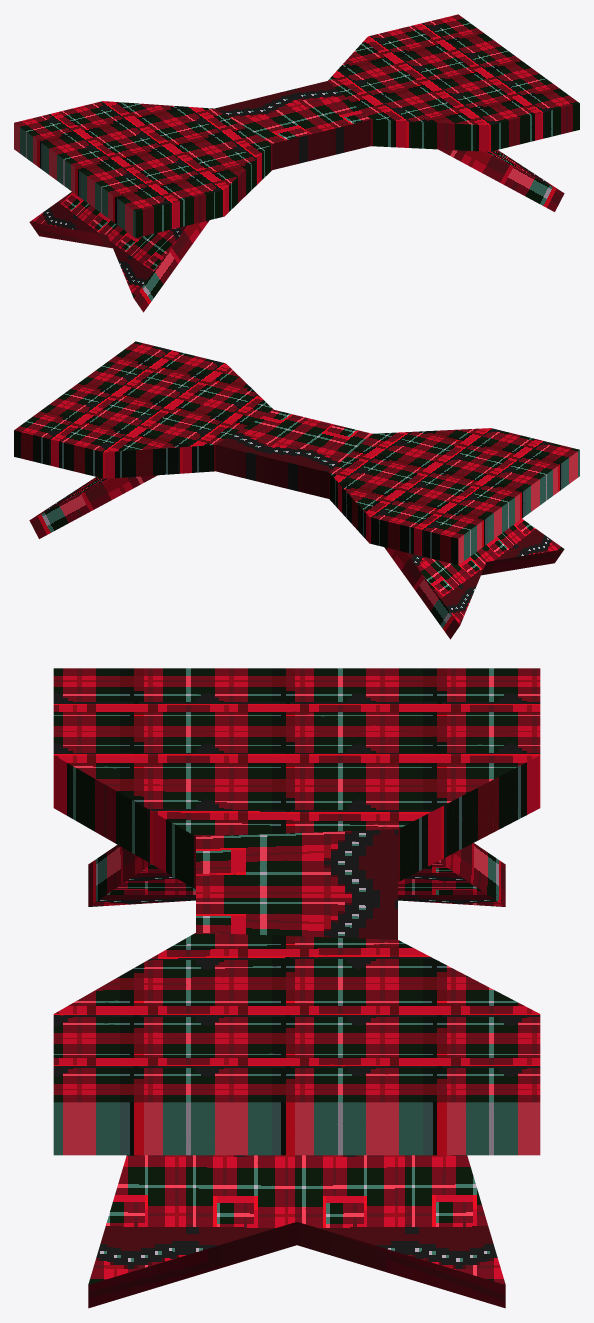
File: 3831kg3_ser12.gltf
The picture shows the model from 3 angles, top to bottom: view 1: azimuth 30°, elevation 25°; view 2: azimuth 150°, elevation 25°; view 3: azimuth 270°, elevation 25°; orthographic projection. The views are drawn at different scales.
Visible parts, largest first — view 1: 3831kg3_ser12; view 2: 3831kg3_ser12; view 3: 3831kg3_ser12.
Boxes of the visible parts, x1,y1,x2,y2 form: 3831kg3_ser12: (14,14,579,312); 3831kg3_ser12: (14,341,579,639); 3831kg3_ser12: (53,668,540,1308).
Size of the model in its own units: 1.9 by 0.4543 by 0.9004.
2 materials, 2 textured.
